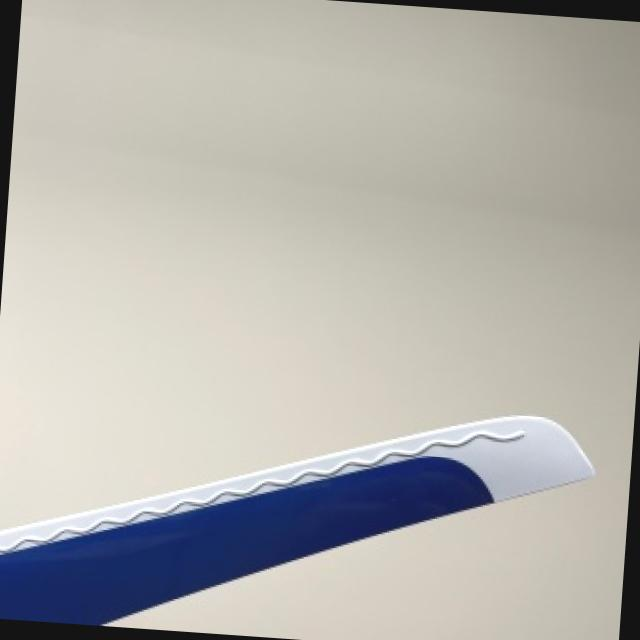healthy: (0, 414, 594, 623)
